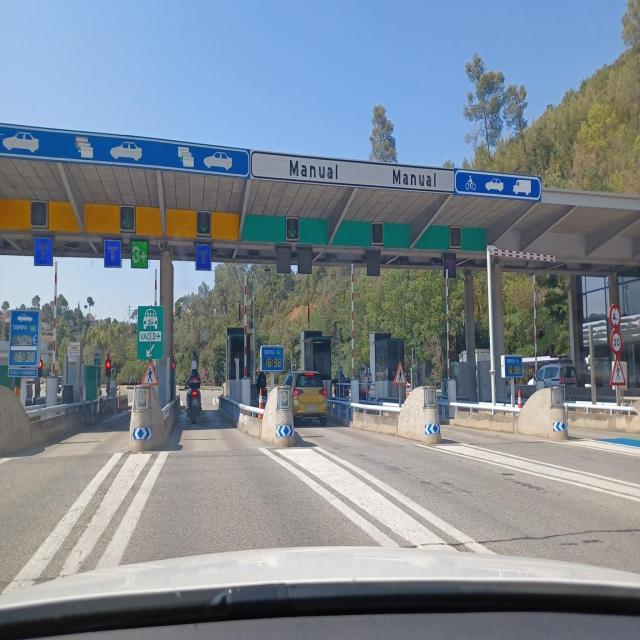car: (516, 364, 578, 410), (277, 370, 327, 424)
